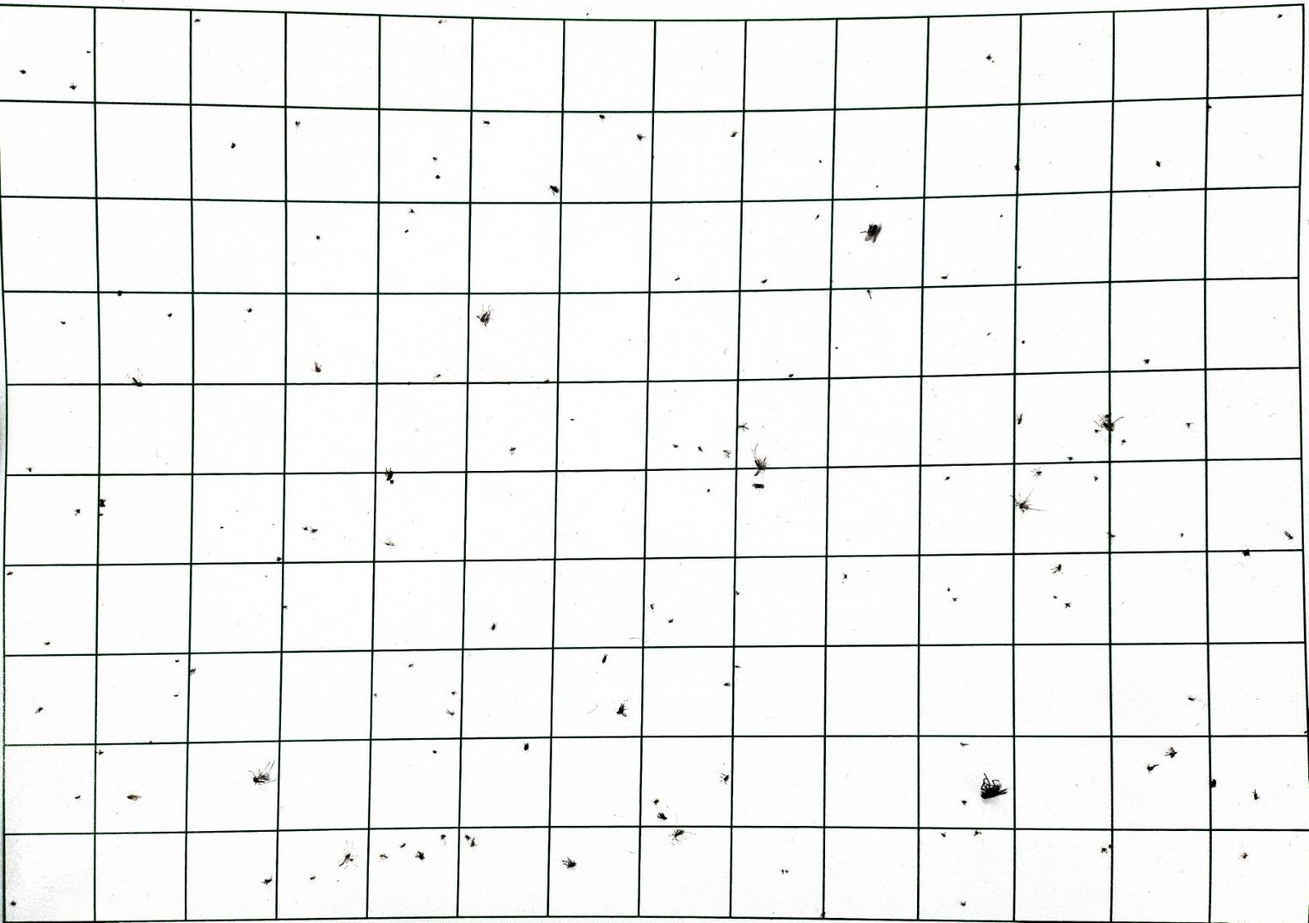fly: (978, 773, 1007, 800), (862, 222, 881, 243)
test: (1010, 488, 1044, 514), (248, 758, 276, 785), (751, 444, 769, 477), (476, 303, 493, 327), (1099, 417, 1124, 433), (128, 369, 145, 387), (338, 850, 355, 867), (669, 828, 685, 843), (383, 466, 395, 483), (561, 855, 576, 868), (463, 832, 476, 846), (615, 701, 627, 716), (1163, 746, 1176, 758), (737, 420, 749, 432), (302, 525, 317, 534), (1050, 563, 1062, 574), (718, 772, 729, 784), (548, 184, 559, 195), (414, 849, 425, 860), (656, 810, 667, 821), (126, 792, 141, 800), (1029, 467, 1041, 477), (1015, 412, 1023, 426), (1145, 762, 1157, 771), (751, 482, 764, 490), (384, 538, 395, 547), (1282, 530, 1293, 539), (313, 364, 322, 374), (635, 132, 645, 141), (1099, 844, 1109, 853), (261, 876, 272, 884), (1251, 788, 1258, 800), (445, 708, 455, 716), (1240, 548, 1250, 556), (818, 907, 826, 917), (600, 652, 607, 663), (865, 288, 872, 299), (722, 449, 730, 458), (1239, 851, 1248, 859), (984, 53, 992, 62), (1106, 530, 1115, 538), (99, 497, 106, 507), (1209, 777, 1216, 787), (489, 622, 497, 630), (508, 446, 516, 454), (729, 130, 737, 138), (651, 797, 659, 805), (450, 689, 458, 697), (36, 705, 45, 712), (1183, 421, 1192, 428), (379, 852, 388, 859), (972, 829, 981, 836), (779, 867, 788, 874), (1186, 695, 1196, 701), (958, 740, 968, 746), (96, 747, 104, 754), (1154, 160, 1161, 168), (69, 83, 77, 90), (1063, 601, 1071, 608), (398, 841, 406, 848), (9, 899, 17, 906), (734, 589, 742, 596), (734, 662, 742, 669), (523, 741, 529, 750), (1013, 163, 1019, 172), (189, 666, 196, 673), (598, 113, 605, 120), (439, 833, 446, 840), (309, 874, 316, 881), (482, 119, 490, 125), (437, 19, 445, 25), (6, 570, 14, 576), (722, 681, 730, 687), (958, 900, 966, 906), (172, 693, 180, 699), (371, 692, 379, 698), (75, 508, 81, 515), (294, 120, 300, 127), (1142, 358, 1149, 364), (26, 466, 33, 472), (841, 572, 847, 579), (408, 208, 415, 214), (649, 602, 655, 609), (1119, 438, 1126, 444), (940, 274, 947, 280), (666, 617, 673, 623), (230, 142, 236, 149), (760, 278, 767, 284), (1066, 455, 1073, 461), (697, 445, 703, 452), (960, 798, 967, 804), (20, 69, 27, 75), (1277, 13, 1284, 19), (408, 663, 415, 669), (219, 524, 226, 530), (435, 373, 442, 379), (1092, 428, 1099, 434), (43, 640, 51, 645), (671, 443, 679, 448), (246, 307, 252, 313), (435, 174, 441, 180), (432, 156, 438, 162), (275, 555, 281, 561), (673, 275, 679, 281), (432, 748, 438, 754), (944, 475, 950, 481), (315, 234, 321, 240), (194, 18, 200, 24), (940, 831, 946, 837), (116, 290, 122, 296), (834, 346, 840, 352), (1017, 265, 1023, 271), (950, 596, 957, 601), (173, 658, 180, 663), (98, 512, 105, 517), (815, 214, 820, 221), (75, 794, 81, 799), (282, 604, 288, 609), (1092, 474, 1097, 480), (1178, 531, 1183, 537), (60, 320, 66, 325), (570, 417, 576, 422), (543, 379, 549, 384), (789, 372, 794, 378), (987, 331, 992, 337), (1021, 340, 1027, 345), (1207, 104, 1212, 110), (705, 488, 711, 493), (947, 587, 952, 593), (1052, 594, 1057, 600), (167, 312, 172, 317), (875, 184, 880, 189), (1304, 729, 1309, 734), (86, 50, 91, 54), (818, 159, 822, 164), (403, 230, 409, 233), (999, 214, 1003, 218)
